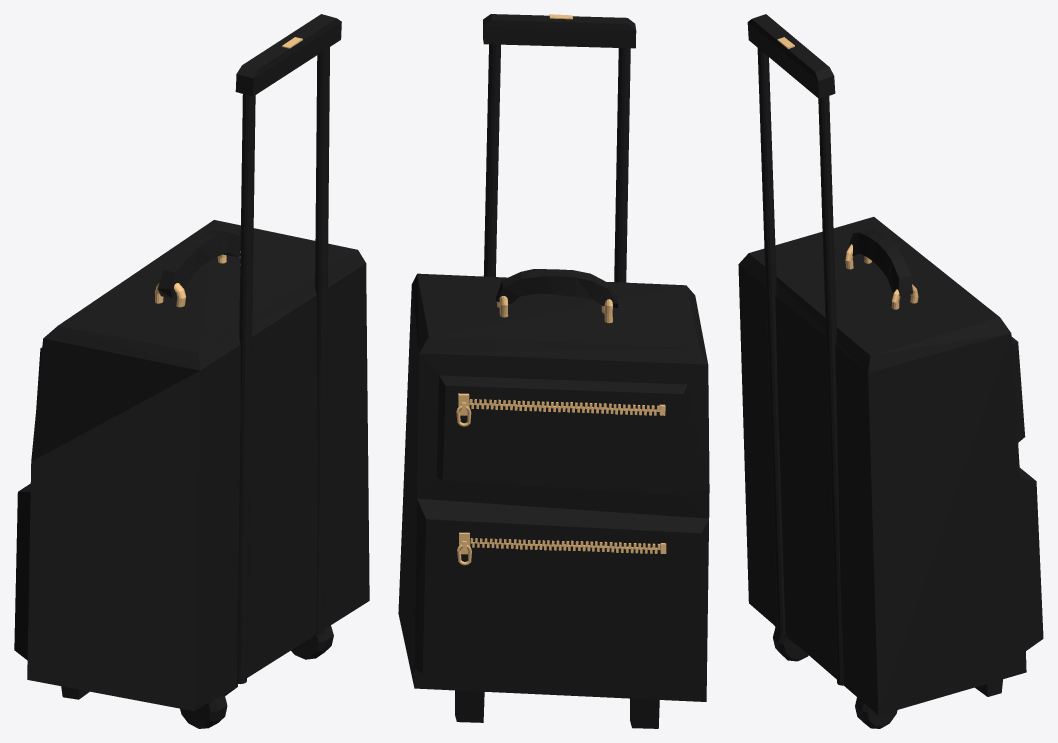
File: carry-on-ribbed-navy.glb
3 renders of one model, left to right at view 1: azimuth 30°, elevation 25°; view 2: azimuth 150°, elevation 25°; view 3: azimuth 270°, elevation 25°, orthographic. The views are drawn at different scales.
Parts seen in each view (by area): view 1: Proportion-adjusted source luggage; view 2: Proportion-adjusted source luggage; view 3: Proportion-adjusted source luggage.
Boxes of the visible parts, x1=… form: Proportion-adjusted source luggage: x1=14, y1=14, x2=369, y2=728; Proportion-adjusted source luggage: x1=398, y1=14, x2=709, y2=728; Proportion-adjusted source luggage: x1=738, y1=14, x2=1043, y2=728.
Size of the model in its own units: 1.53 by 2.9 by 1.22.
